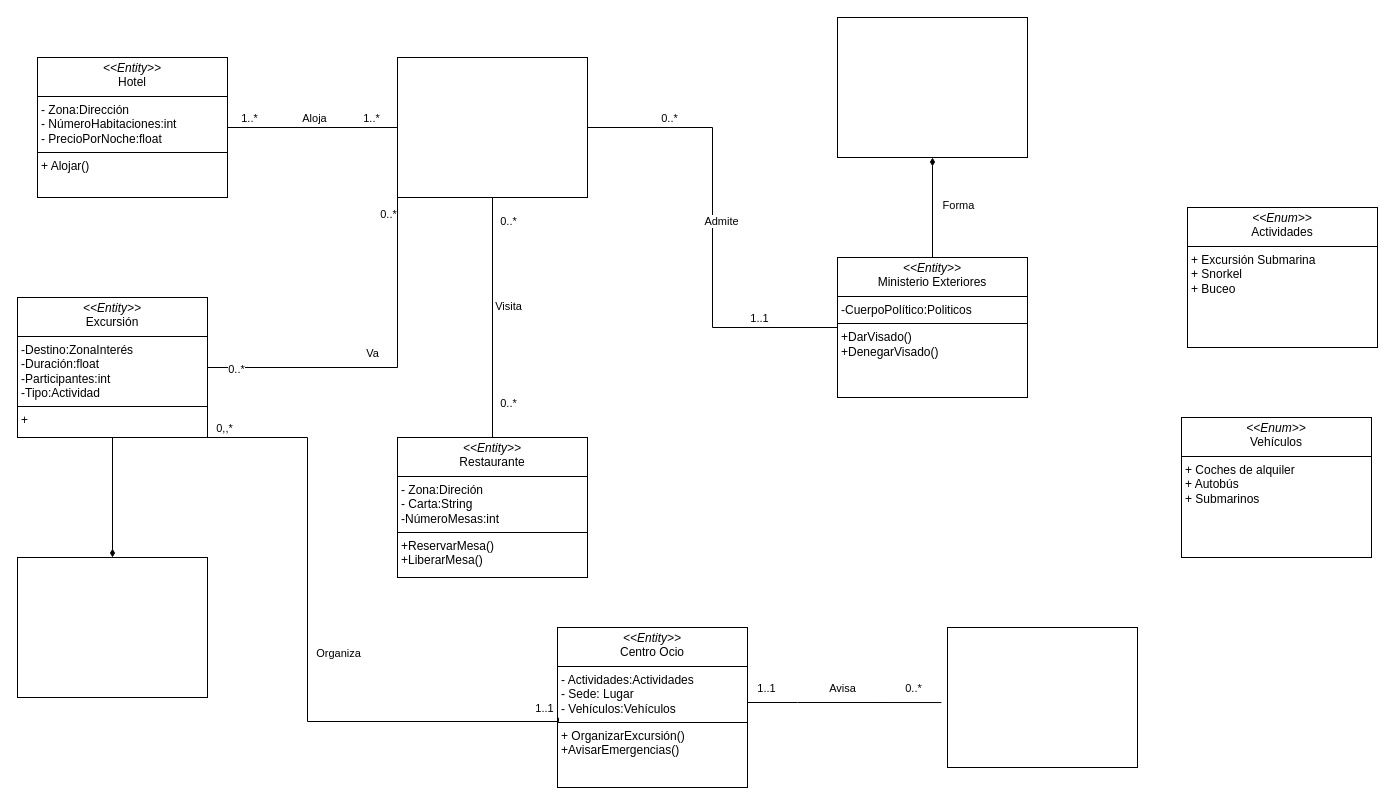
The diagram is 1395 pixels wide and 805 high, and some of its shapes have lost their labels. The centre of each missing label's shape, as x and y in pixels:
"<<Entity>> Político - +" belongs at [932,87].
"<<Entity>> RegistroEmergencias" belongs at [1042,697].
"<<Entity>> Sitio de Interés -Precio:float -Lugar:Dirección +" belongs at [112,627].
"<<Entity>> Turista - +" belongs at [492,127].
